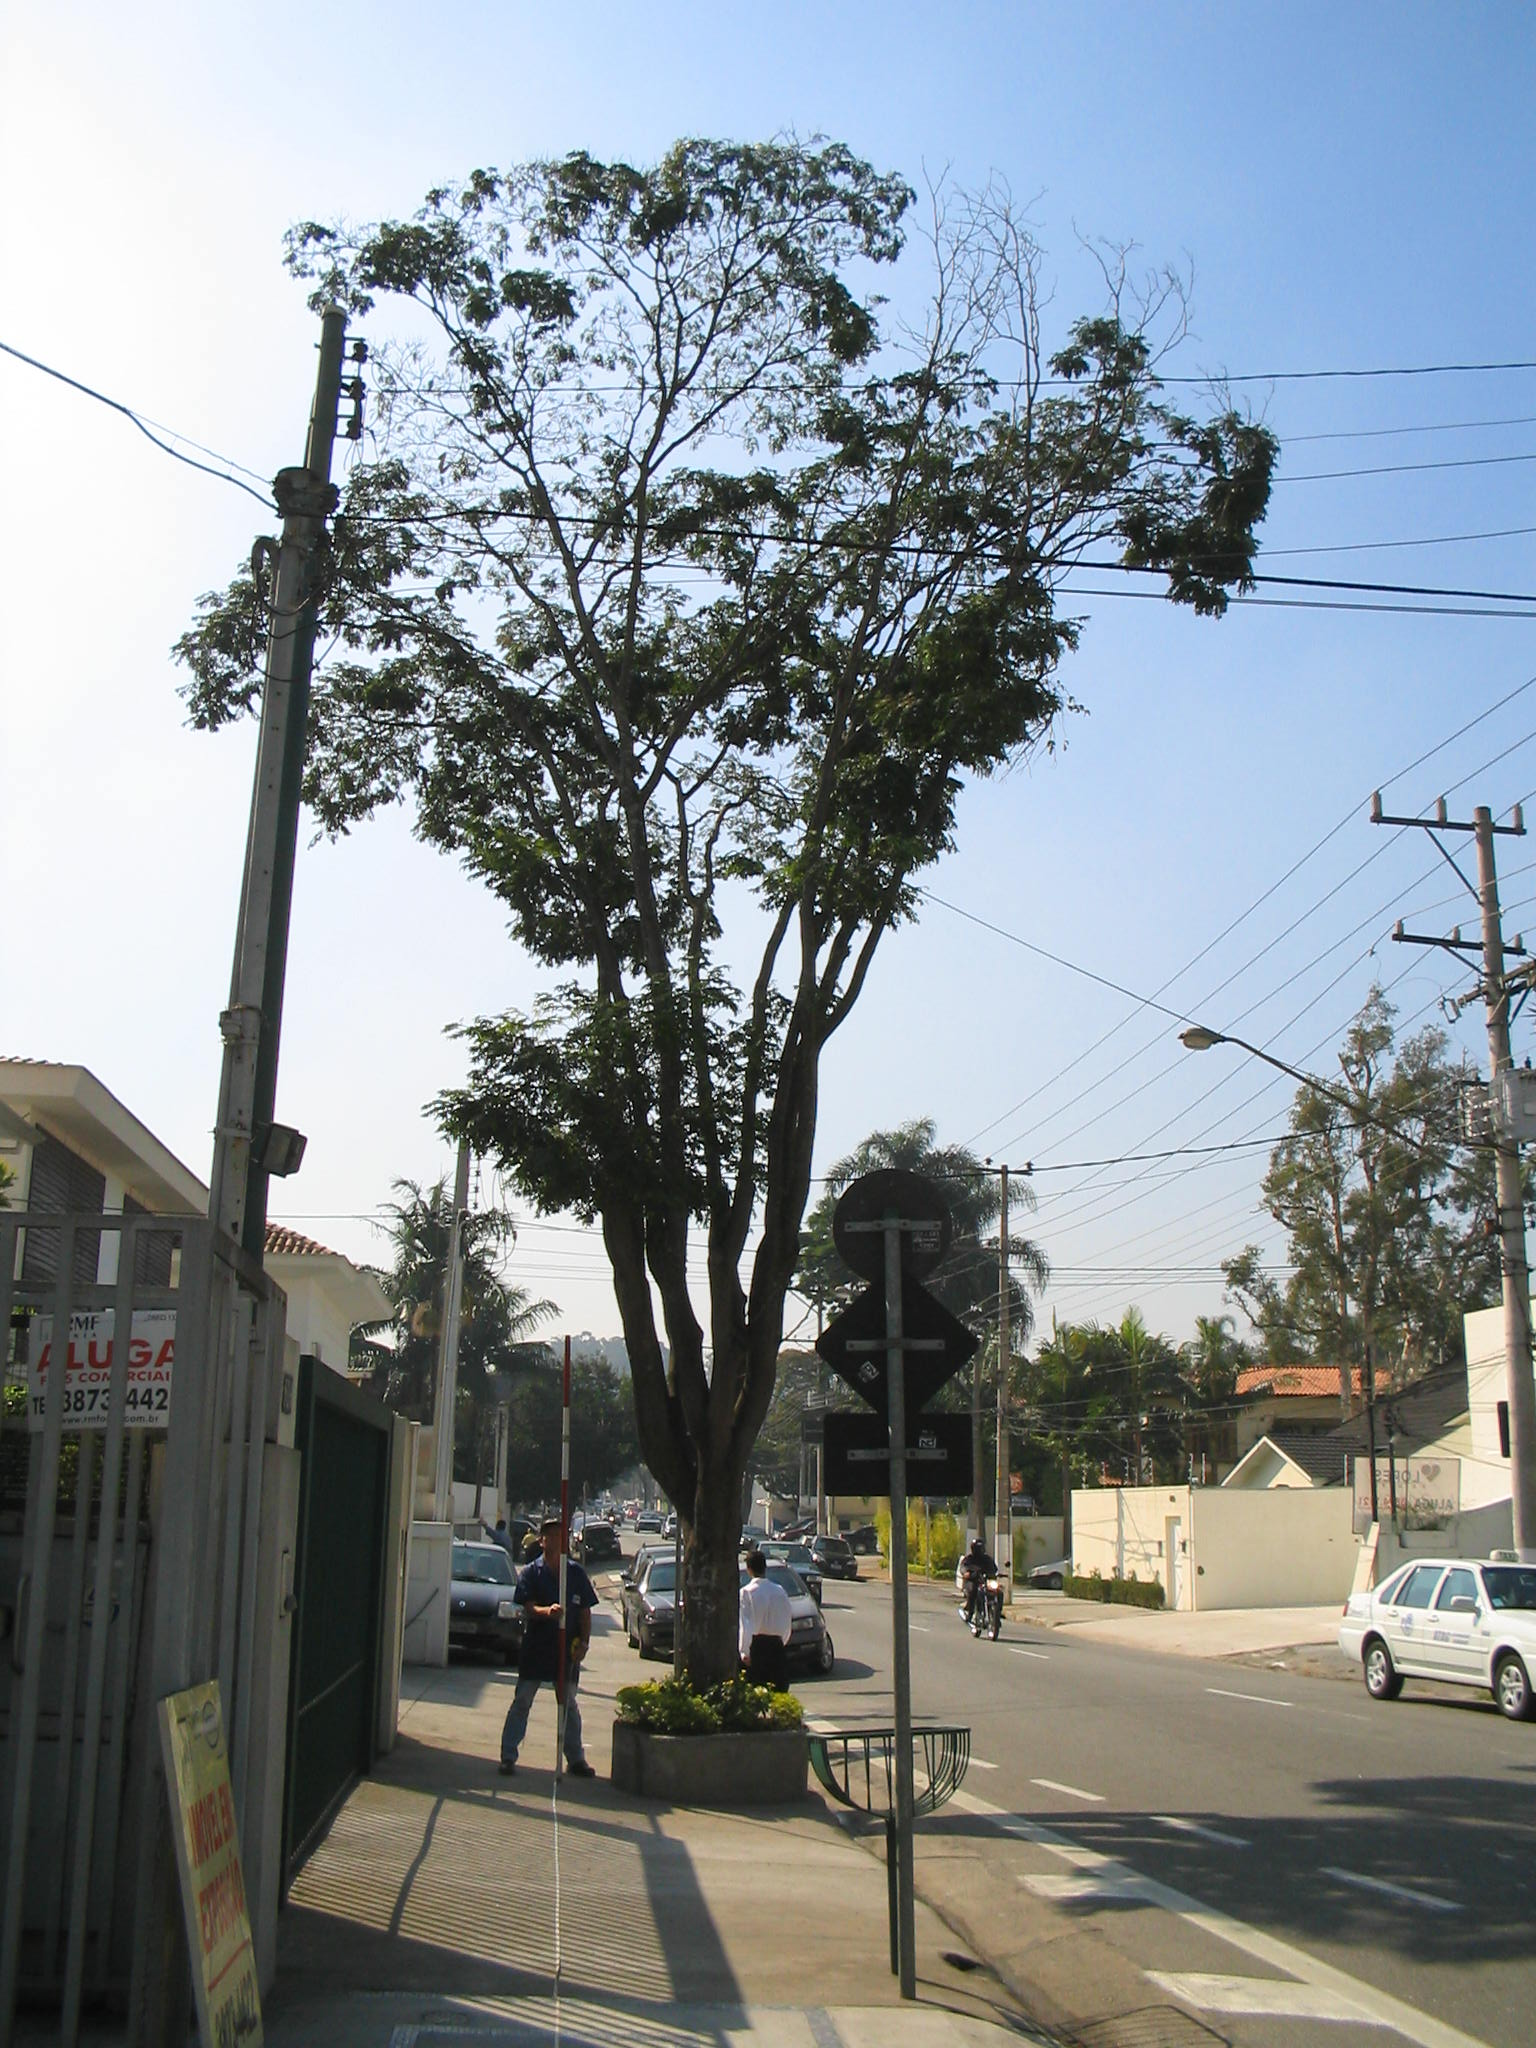crown: (179, 127, 1283, 1230)
stem: (642, 1514, 774, 1798)
stick: (541, 1335, 594, 1780)
tree: (171, 126, 1284, 1804)
